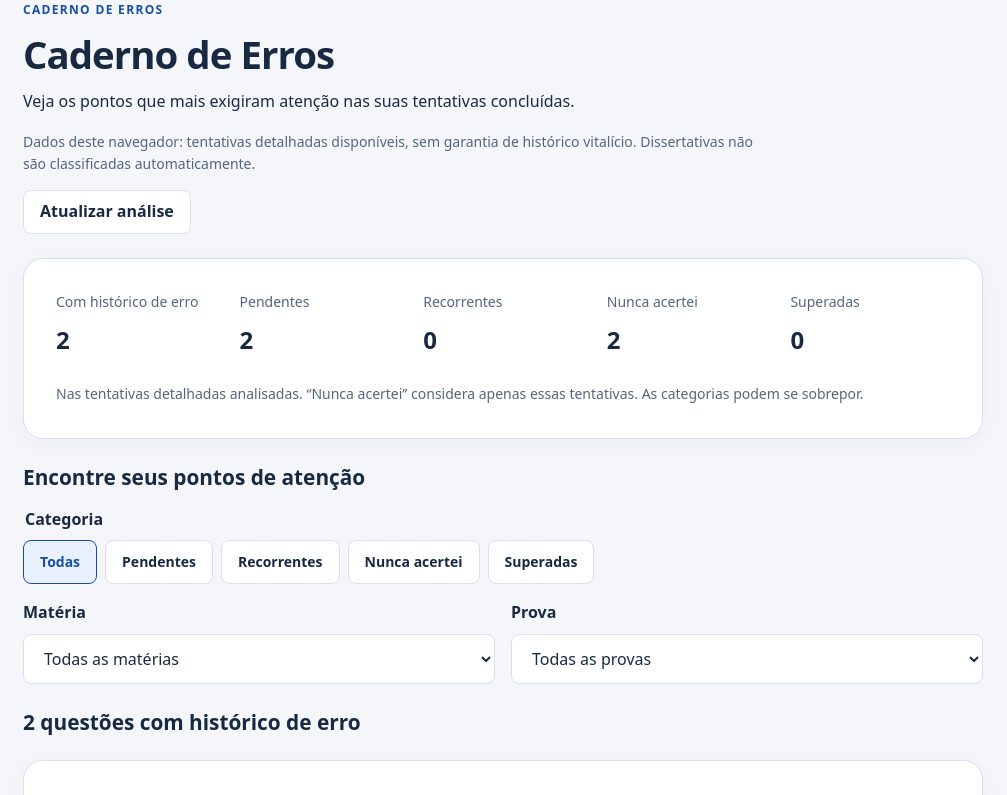
it: read-only notebook page › filters real Exam.subject and exam; changes reset dependent filter
The width and height of the screenshot is (1007, 795).
Select "Outra prova" in the dropdown labelled "Prova" at (747, 659), box x1=511 y1=634 x2=983 y2=684
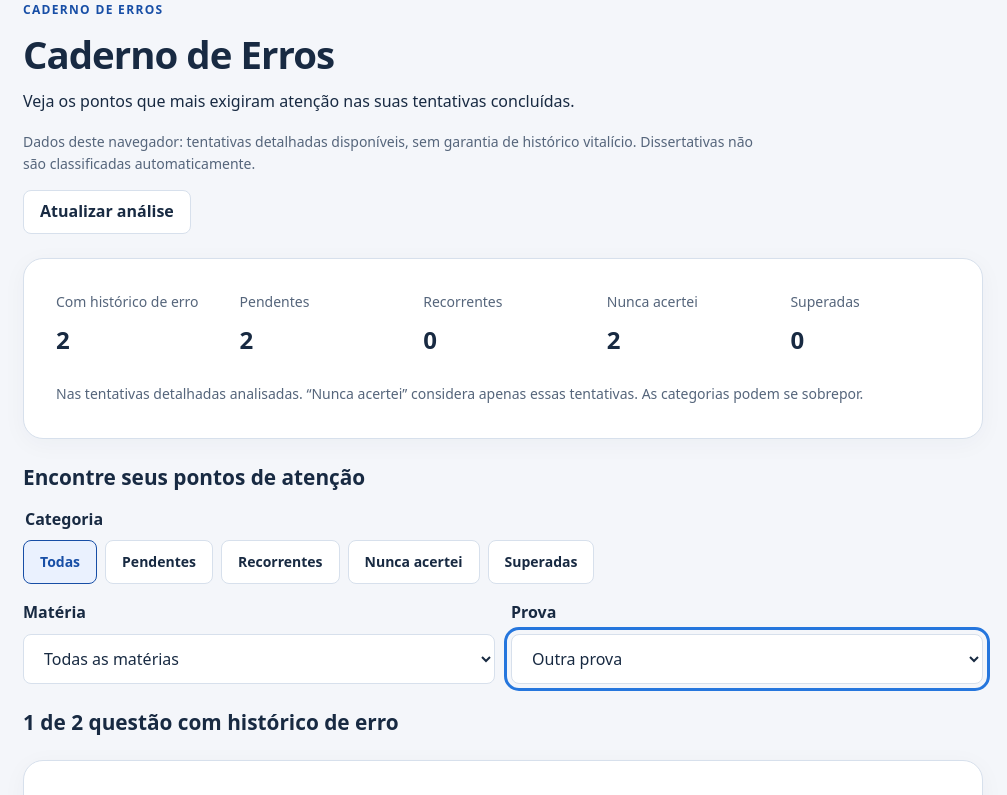
Select "Fisiologia" in the dropdown labelled "Matéria" at (259, 659), box x1=23 y1=634 x2=495 y2=684
(page scrolled)
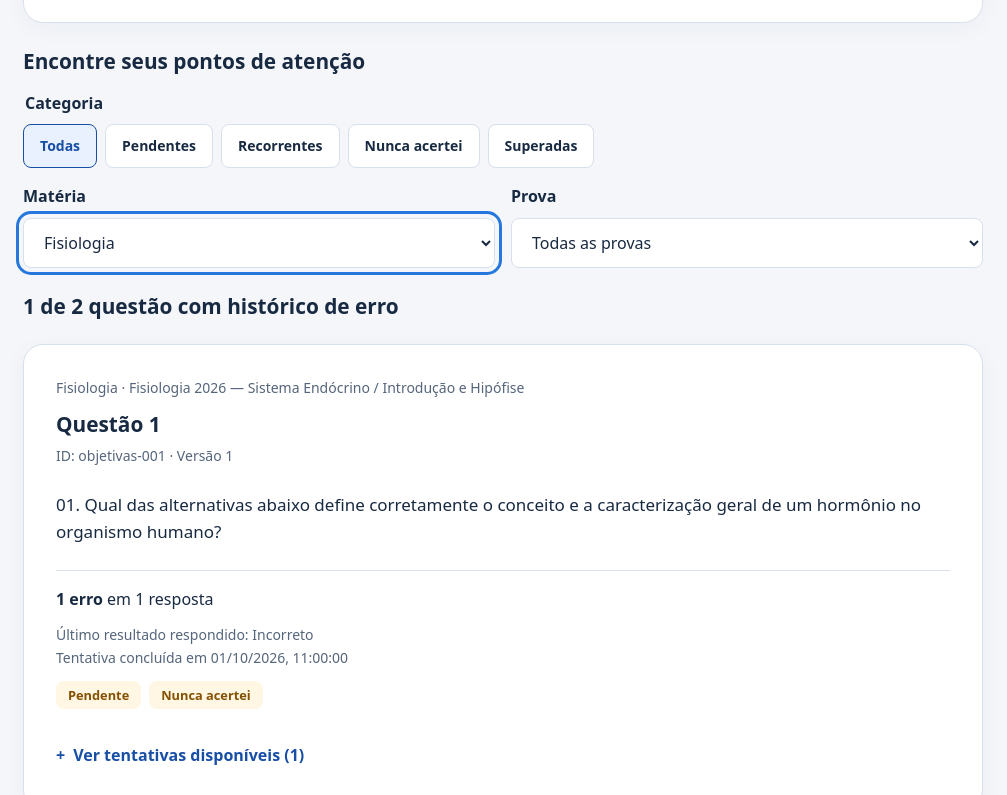
Expected: the element that starts with "Fisiologia" shows "Fisiologia 2026 — Sistema Endócrino / Introdução e Hipófise", x1=129 y1=378 x2=524 y2=397
